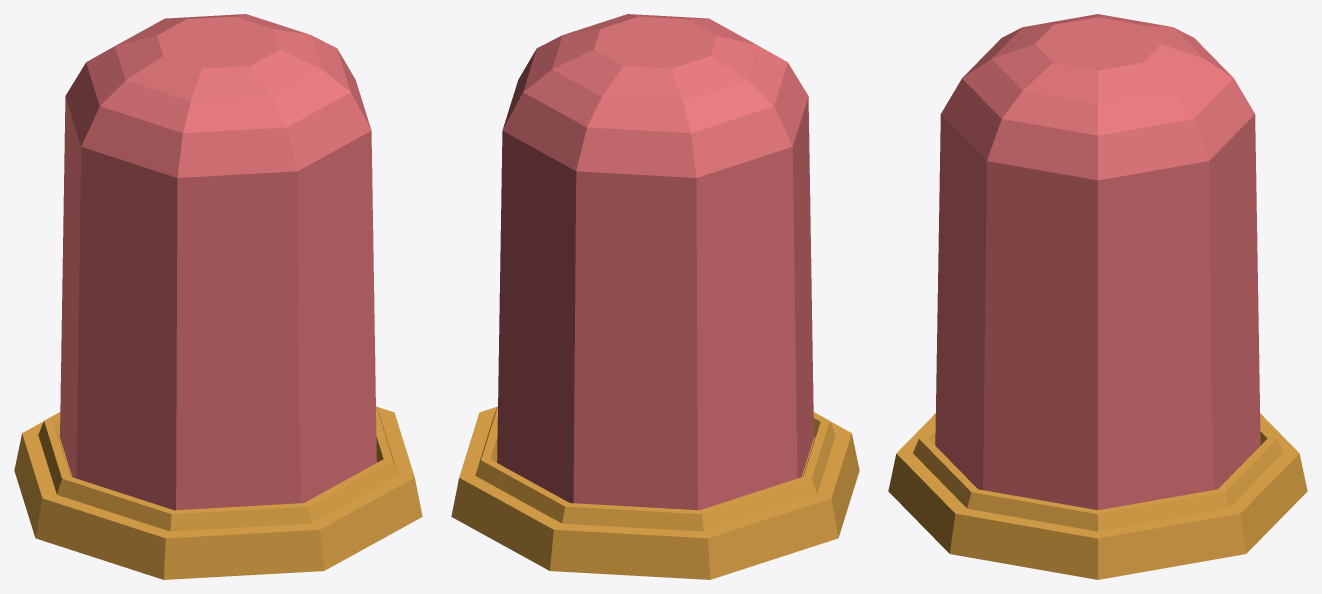
File: SM_Display_Glass_Scorpio.fbx
3 renders of one model, left to right at view 1: azimuth 30°, elevation 25°; view 2: azimuth 150°, elevation 25°; view 3: azimuth 270°, elevation 25°, orthographic.
Parts seen in each view (by area): view 1: display-glass-scorpio; view 2: display-glass-scorpio; view 3: display-glass-scorpio.
Boxes of the visible parts, x1,y1,x2,y2 form: display-glass-scorpio: [14, 14, 422, 579]; display-glass-scorpio: [451, 14, 859, 579]; display-glass-scorpio: [888, 14, 1307, 579].
Bounding box in the file's own units: 0.3 × 0.3533 × 0.3.
